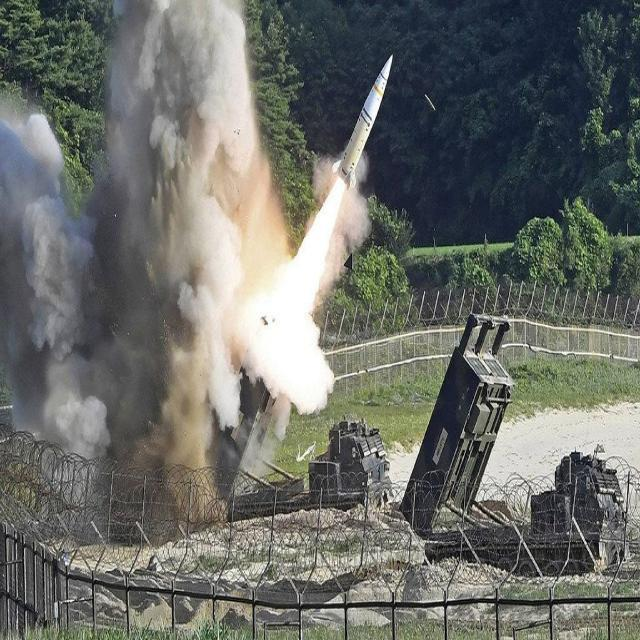Missile: (328, 50, 402, 187)
